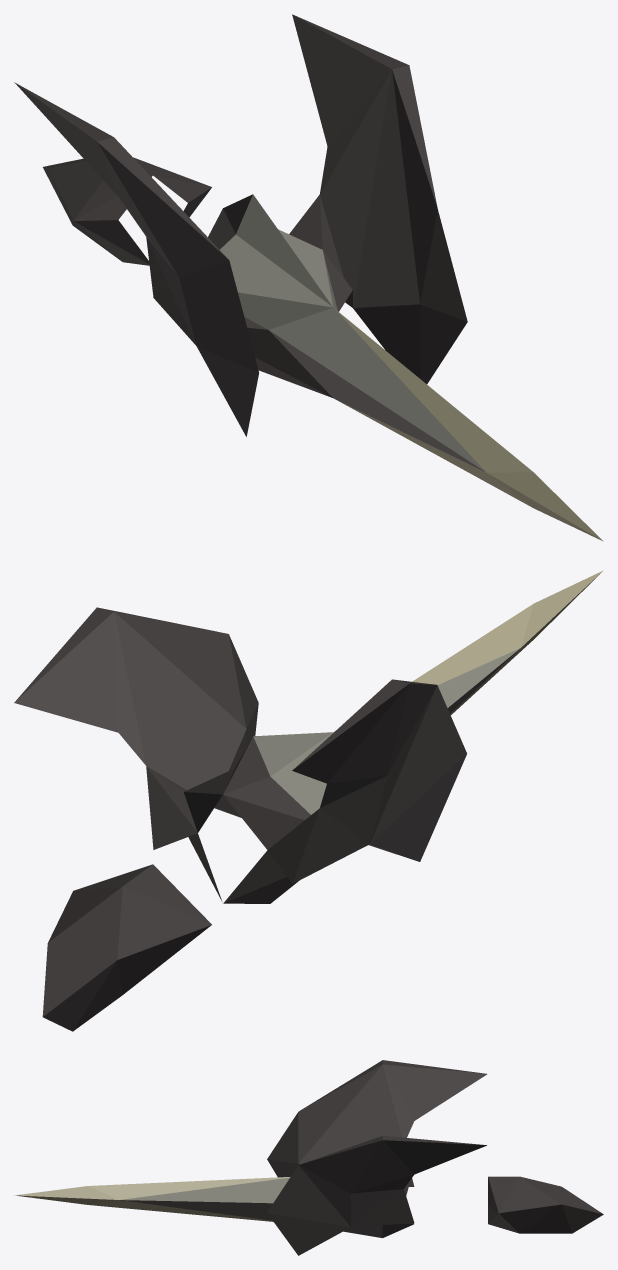
File: player_avernic_defender.glb
3 views of the same model, one above another, from view 1: azimuth 30°, elevation 25°; view 2: azimuth 150°, elevation 25°; view 3: azimuth 270°, elevation 25° (orthographic). The views are drawn at different scales.
Size of the model in its own units: 18 by 13.99 by 56.01.
Materials: 1 (1 with a texture image).
